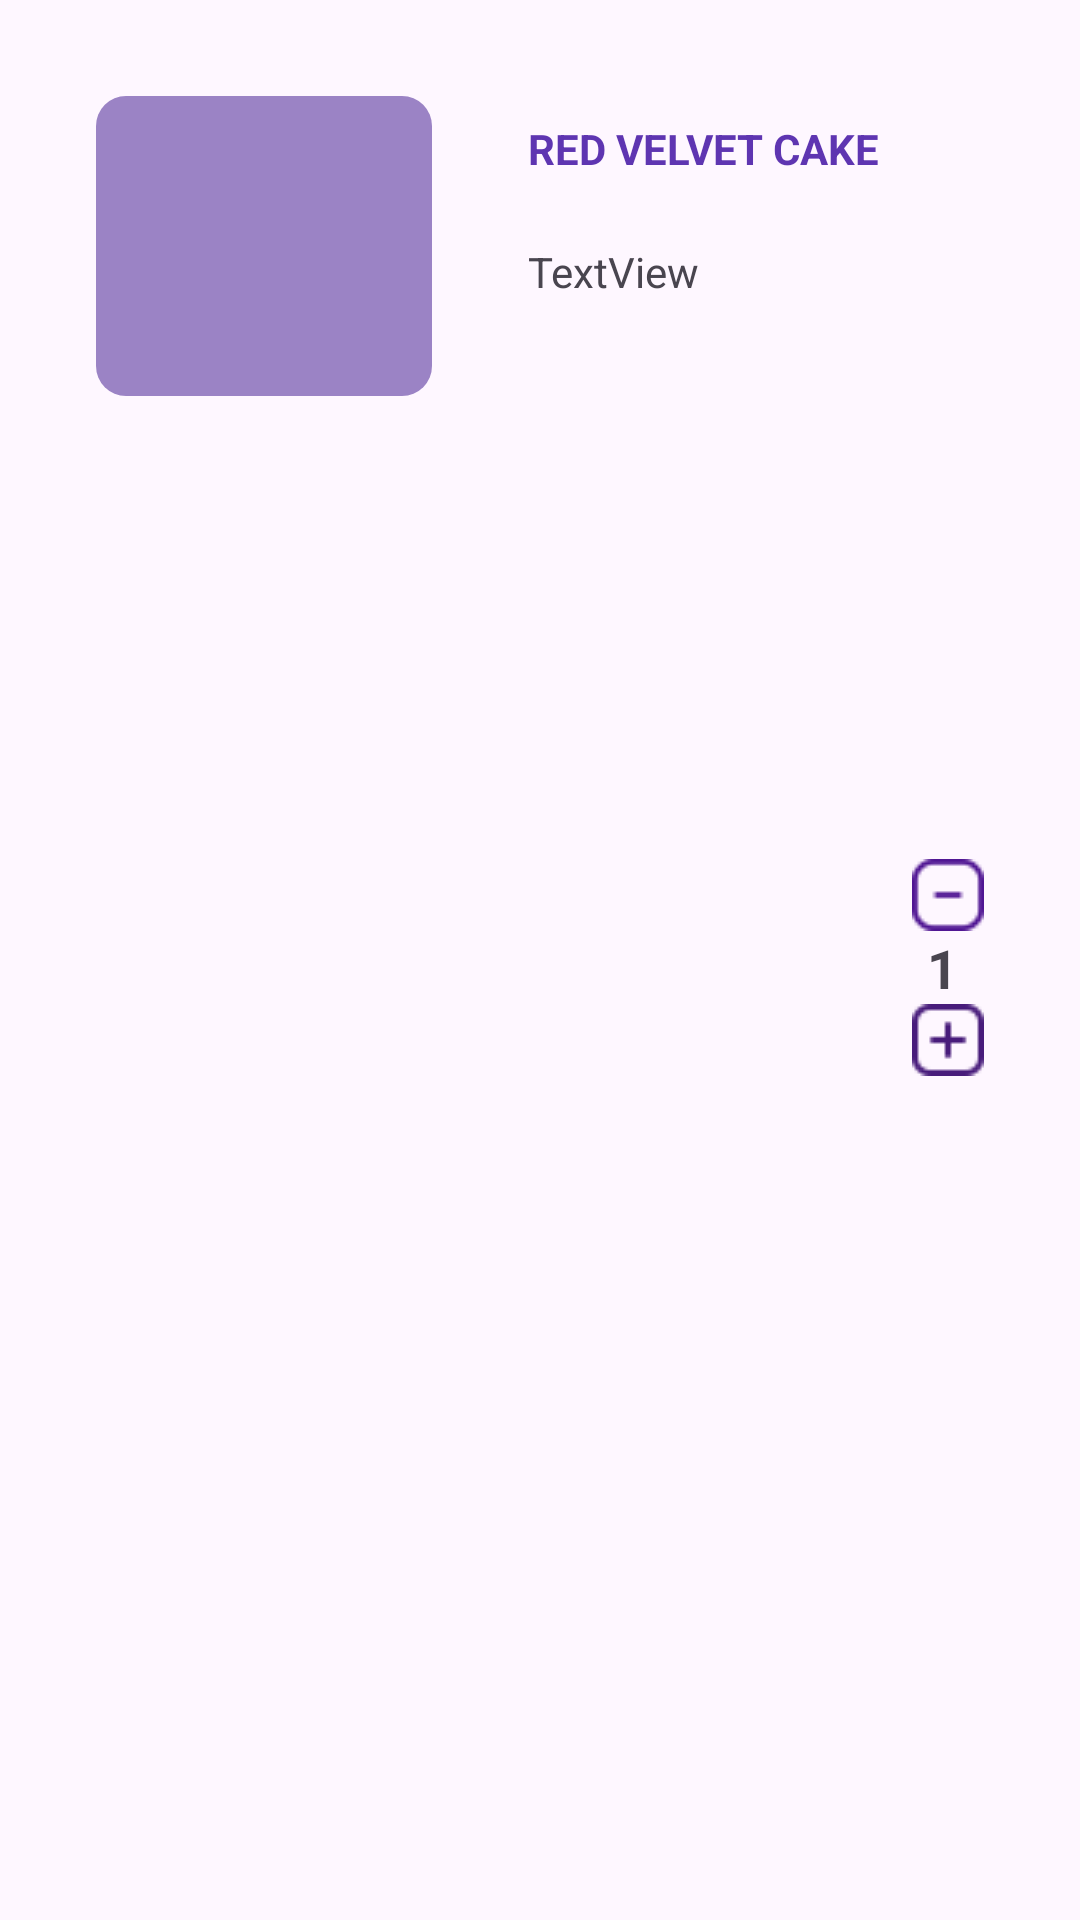

Point at icon controls on the screen. Image size 1080x1920, points as point (x, y).
minus: point (948, 895)
plus: point (948, 1040)
